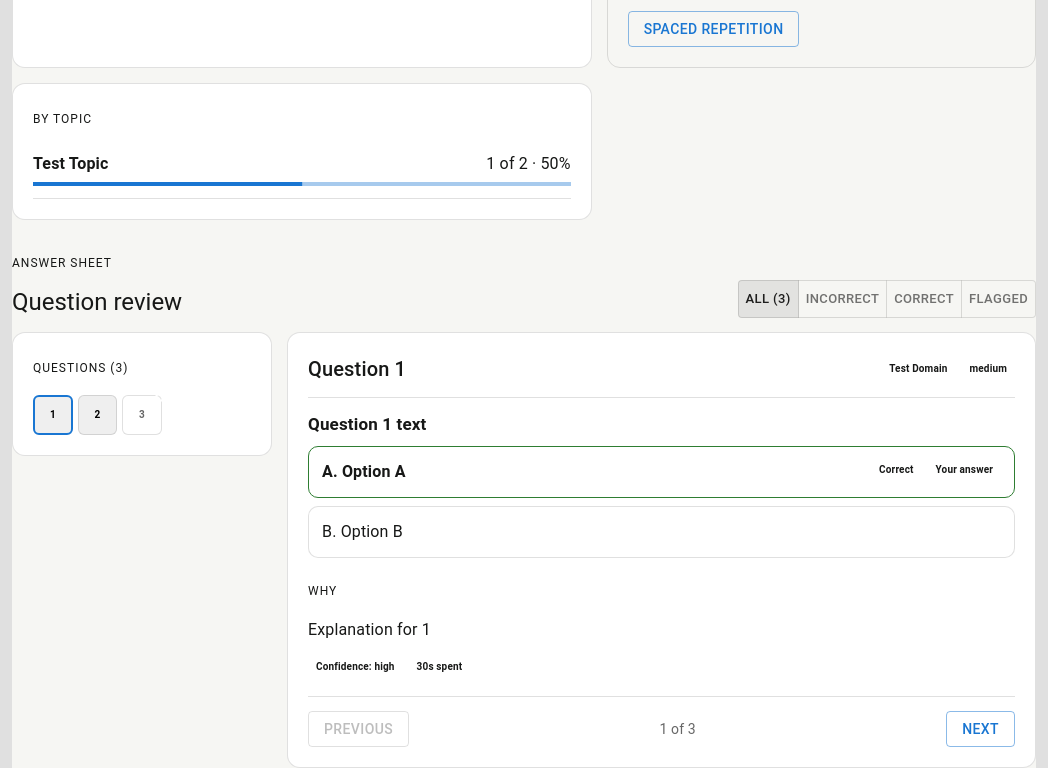
it: ExamReviewPage › jumps directly to a question via the palette and shows its flagged marker
(page scrolled)
Check: the text "Question 1 text" is shown, box [308,414,426,434]
Click the button "3" at (142, 415), box [122,395,162,435]
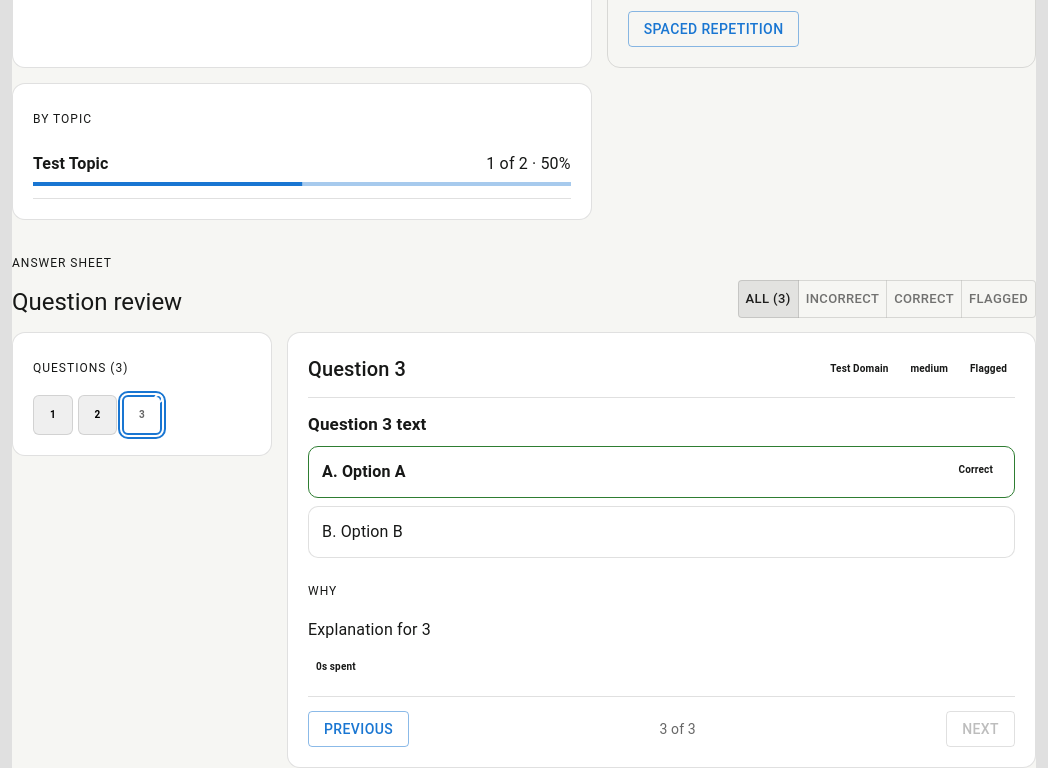
Check: the text "Question 3 text" is shown, box [308,414,426,434]
